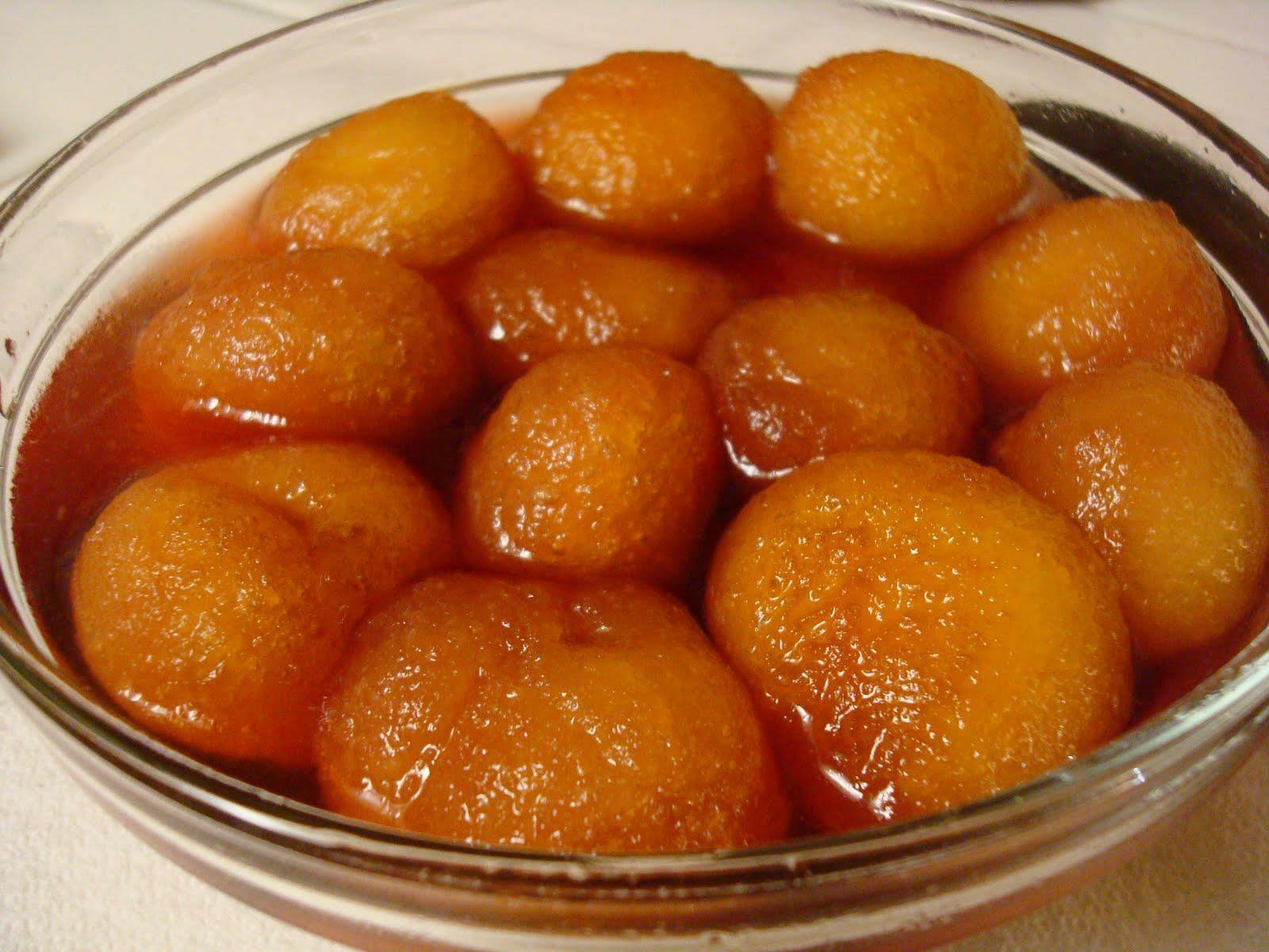GulabJamun: (707, 445, 1134, 838), (322, 567, 793, 865), (68, 437, 455, 772), (988, 365, 1269, 656), (126, 246, 485, 453), (459, 340, 723, 586), (937, 201, 1235, 418), (701, 278, 989, 484), (770, 46, 1032, 269), (514, 52, 775, 243), (251, 88, 525, 269), (465, 219, 740, 373)
